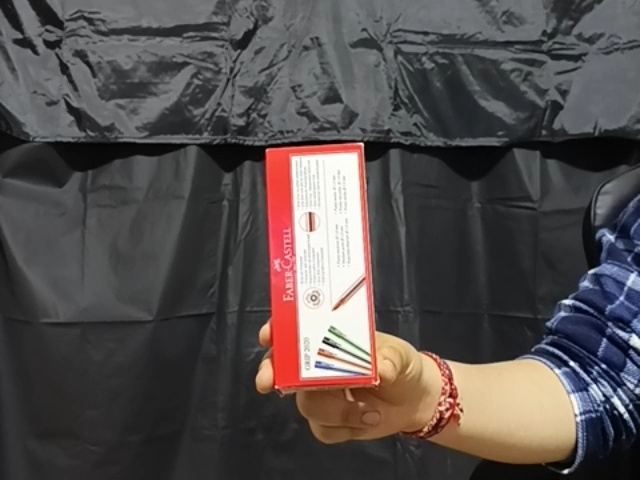xd: (263, 145, 382, 387)
